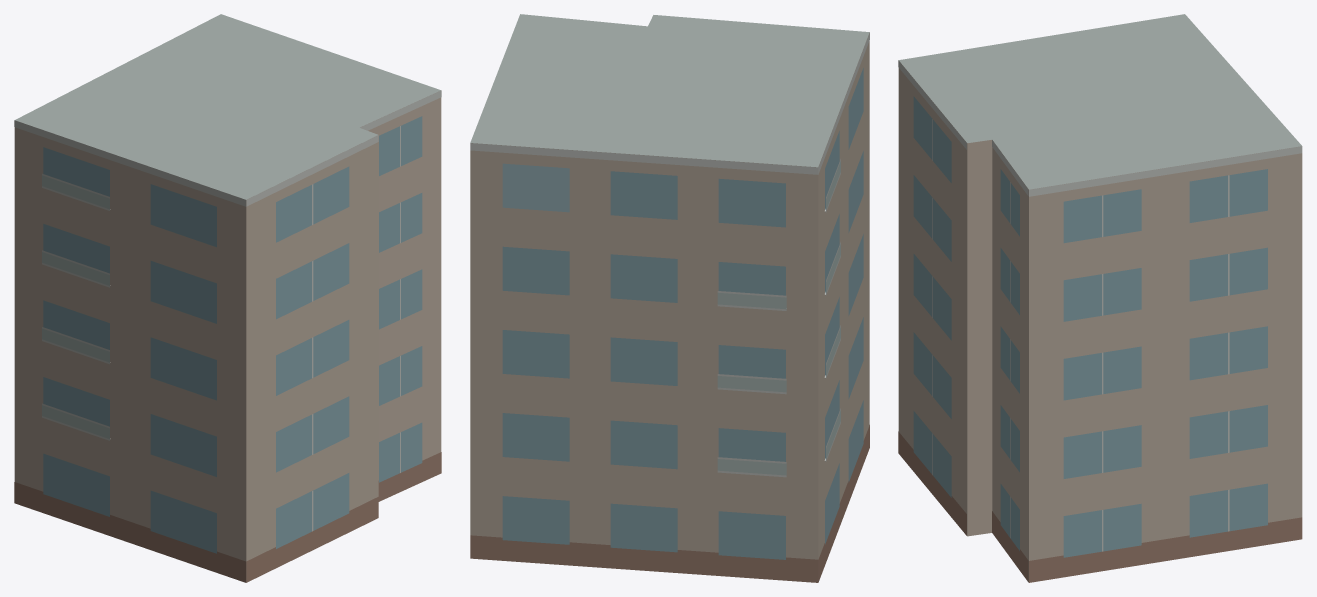
File: survey-upis-32859633.glb
The picture shows the model from 3 angles, left to right: view 1: azimuth 30°, elevation 25°; view 2: azimuth 150°, elevation 25°; view 3: azimuth 270°, elevation 25°; orthographic projection. The views are drawn at different scales.
Parts seen in each view (by area): view 1: survey-upis-32859633.tmp; view 2: survey-upis-32859633.tmp; view 3: survey-upis-32859633.tmp.
Boxes of the visible parts, x1,y1,x2,y2 form: survey-upis-32859633.tmp: (14,14,441,582); survey-upis-32859633.tmp: (470,14,869,582); survey-upis-32859633.tmp: (898,14,1302,582).
Size of the model in its own units: 12.85 by 13.4 by 12.48.
